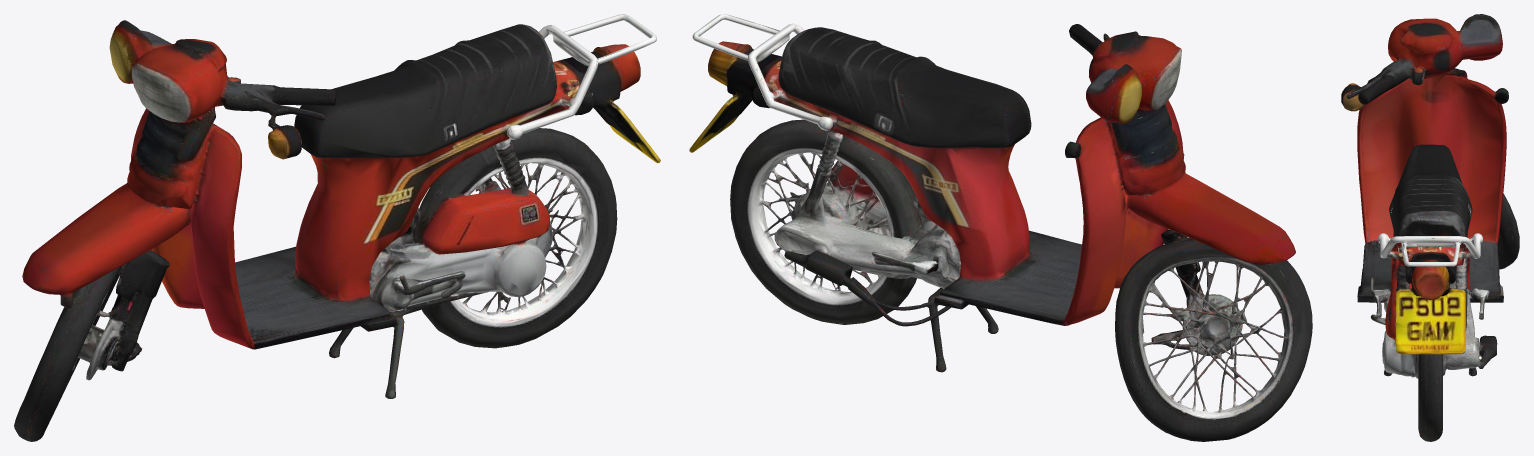
Rendered from moto.glb.
3 views of the same model, side by side, from view 1: azimuth 30°, elevation 25°; view 2: azimuth 150°, elevation 25°; view 3: azimuth 270°, elevation 25° (orthographic). The views are drawn at different scales.
Visible parts, largest first — view 1: Mesh_0; view 2: Mesh_0; view 3: Mesh_0.
Boxes of the visible parts, left/top/right/bottom form: Mesh_0: left=14, top=14, right=660, bottom=441; Mesh_0: left=689, top=14, right=1312, bottom=441; Mesh_0: left=1341, top=14, right=1519, bottom=441.
Bounding box in the file's own units: 1.91 × 1.11 × 0.6186.
Materials: 1 (1 with a texture image).
